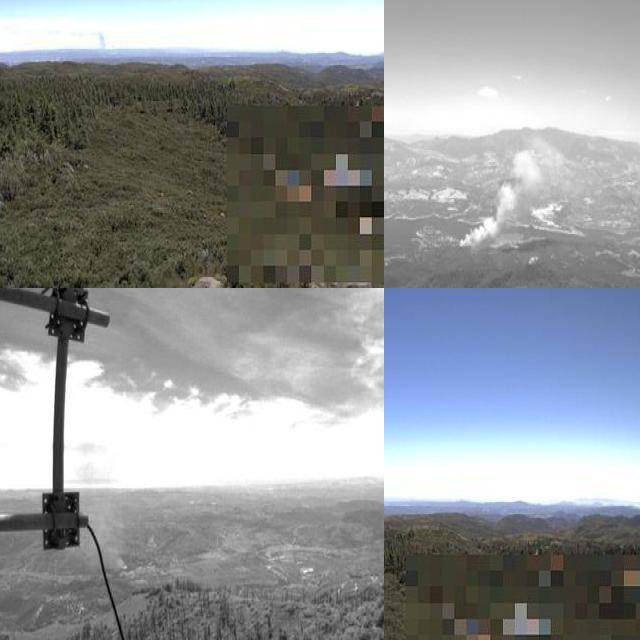smoke: (449, 135, 581, 250), (76, 449, 130, 576), (80, 26, 114, 49)
